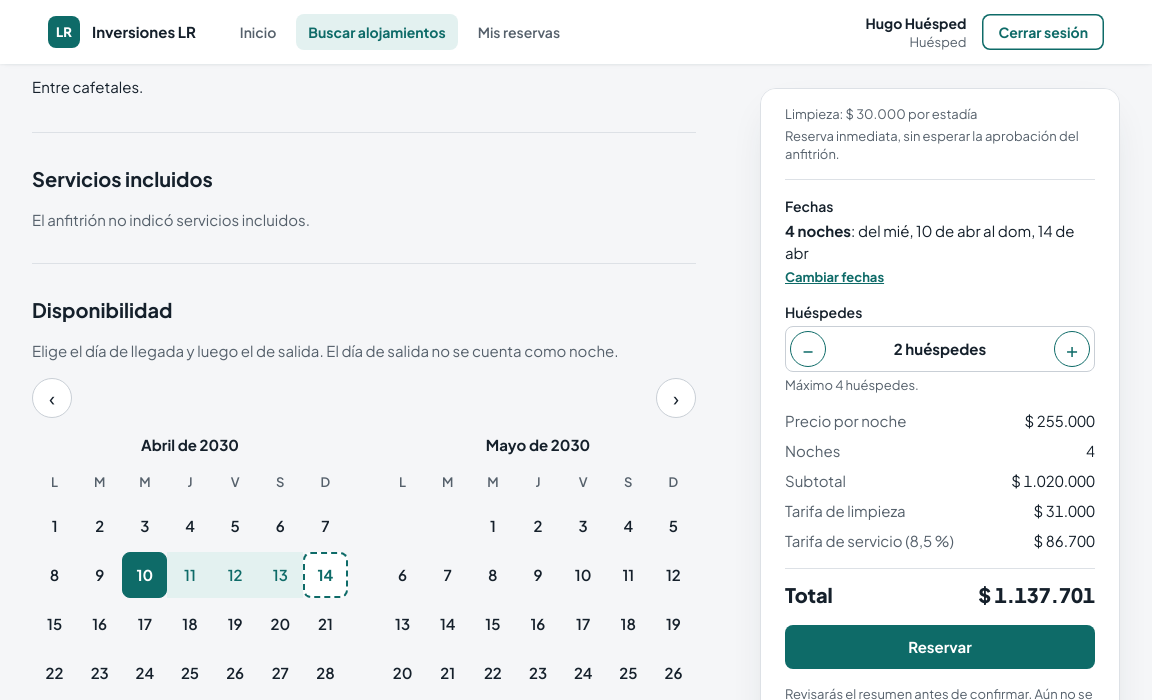
Test case: Reservar › confirmación › «Volver» la cierra sin enviar nada
(page scrolled)
Expected: the element named "Desglose del precio" is shown, 785,410 -> 1095,609
Click the button "Reservar". click: [940, 647]
box: 785,625 -> 1095,669
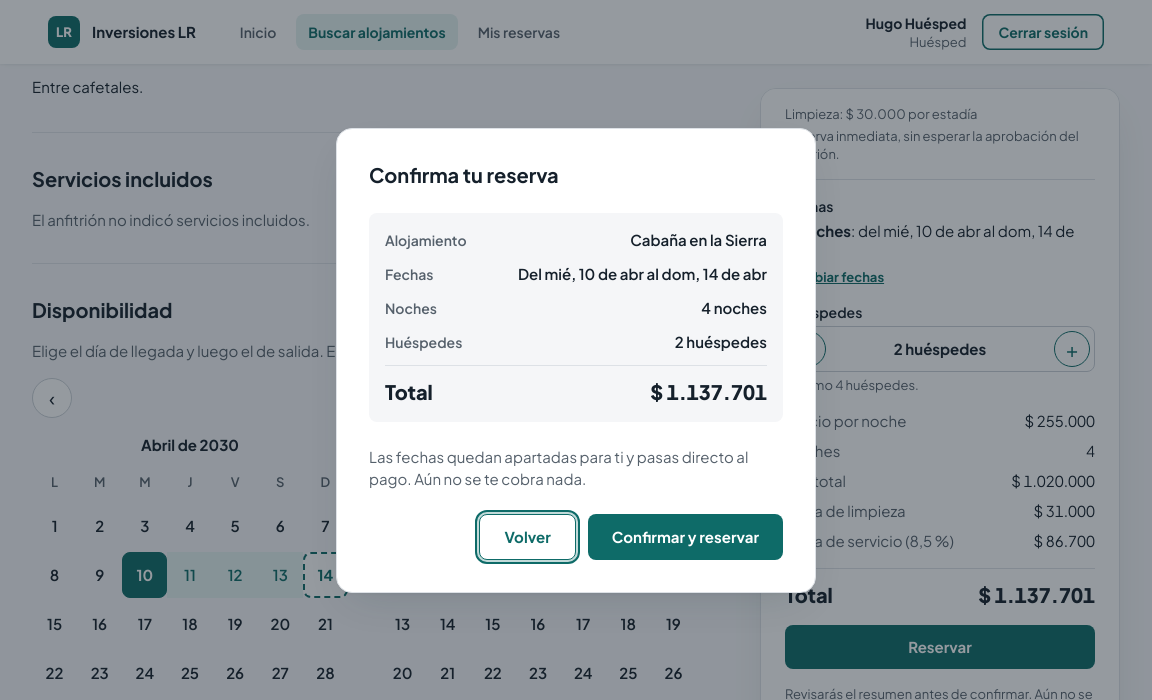
Click the button "Volver". click: [528, 536]
box: 479,514 -> 576,560
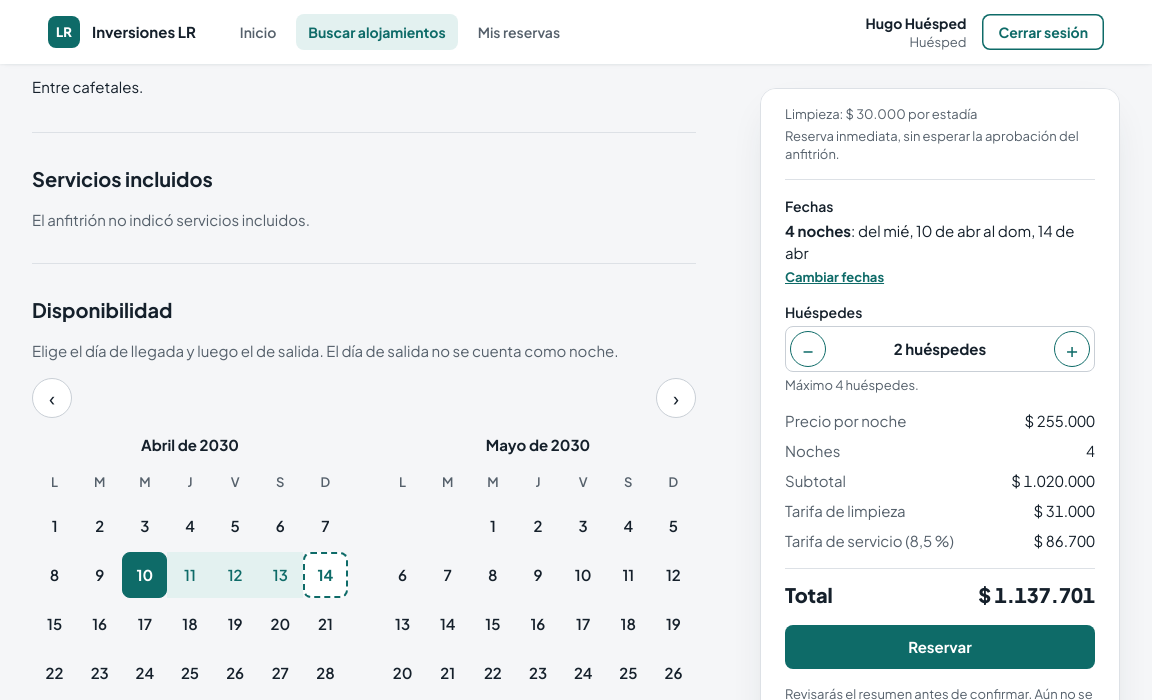
Expected: the dialog is gone
